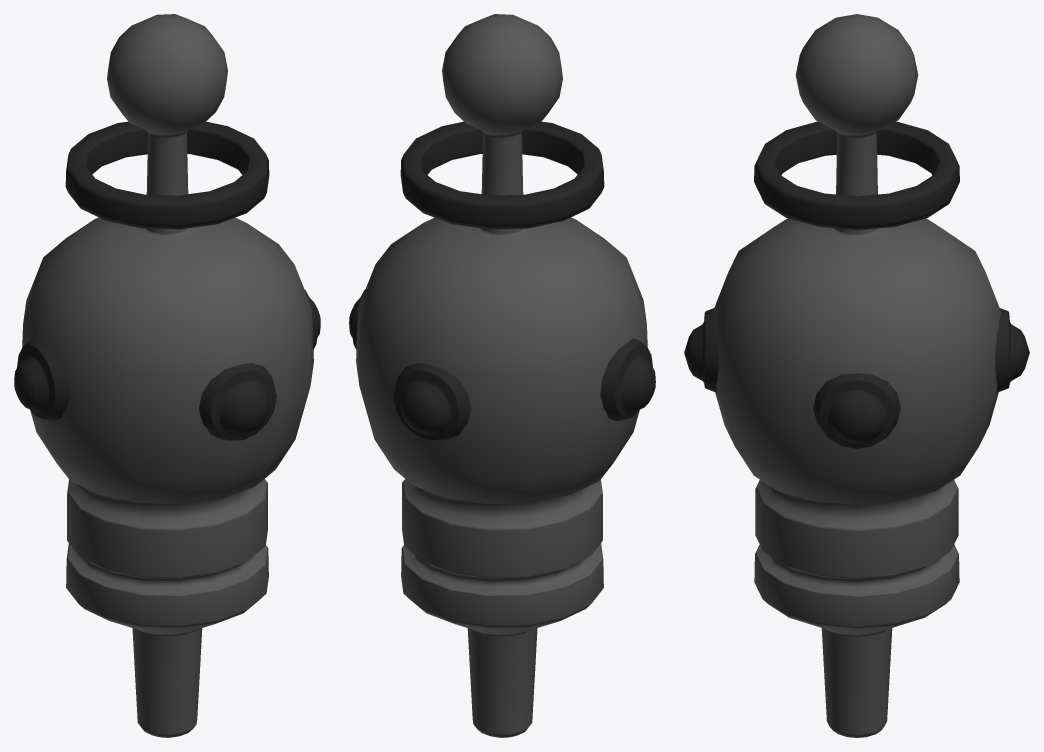
Rendered from _Grenade_05.fbx.
3 renders of one model, left to right at view 1: azimuth 30°, elevation 25°; view 2: azimuth 150°, elevation 25°; view 3: azimuth 270°, elevation 25°, orthographic.
Parts seen in each view (by area): view 1: Grenade_05; view 2: Grenade_05; view 3: Grenade_05.
Boxes of the visible parts, <box> form: Grenade_05: <box>14,14,320,737</box>; Grenade_05: <box>349,14,655,737</box>; Grenade_05: <box>684,14,1029,737</box>.
Bounding box in the file's own units: 52.68 × 119 × 52.68.
1 material, 1 textured.
